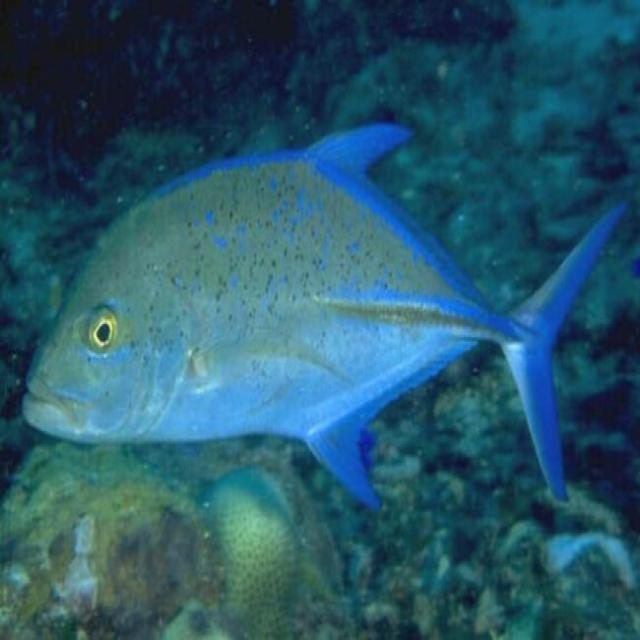ikan: (19, 80, 628, 546)
